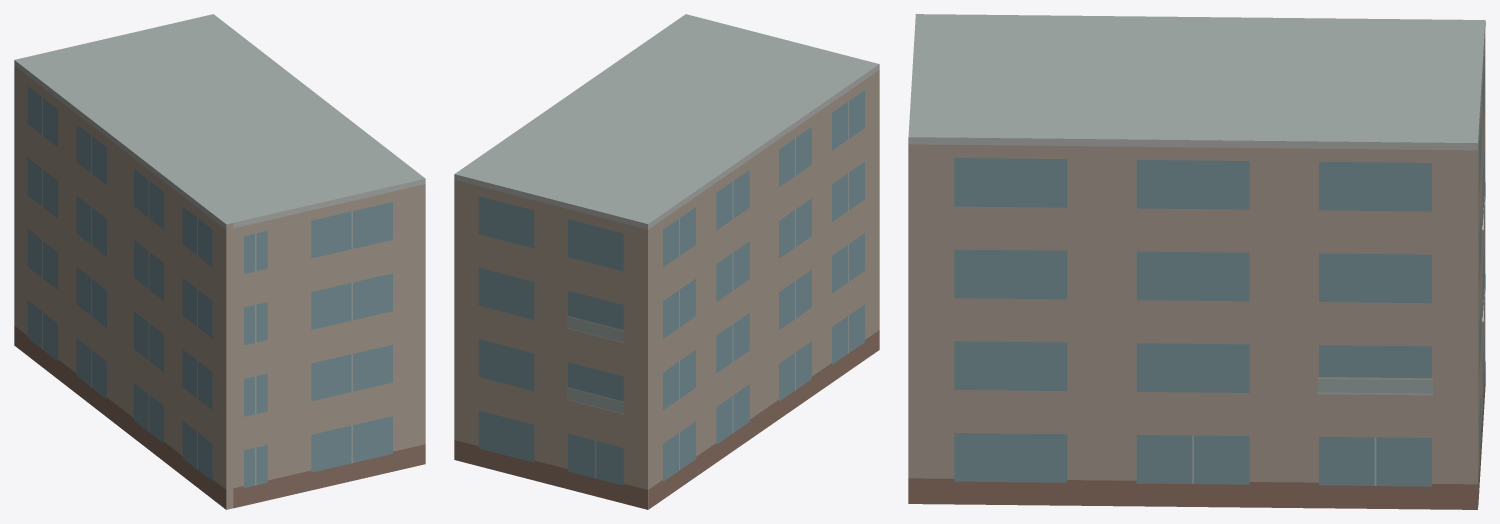
File: survey-upis-33016488.glb
3 views of the same model, side by side, from view 1: azimuth 30°, elevation 25°; view 2: azimuth 150°, elevation 25°; view 3: azimuth 270°, elevation 25° (orthographic). The views are drawn at different scales.
Parts seen in each view (by area): view 1: survey-upis-33016488.tmp; view 2: survey-upis-33016488.tmp; view 3: survey-upis-33016488.tmp.
Part boxes in pixels (x1=…): survey-upis-33016488.tmp: x1=14, y1=14, x2=425, y2=509; survey-upis-33016488.tmp: x1=454, y1=14, x2=879, y2=509; survey-upis-33016488.tmp: x1=908, y1=14, x2=1485, y2=509.
Bounding box in the file's own units: 9.45 × 12.5 × 17.84.
